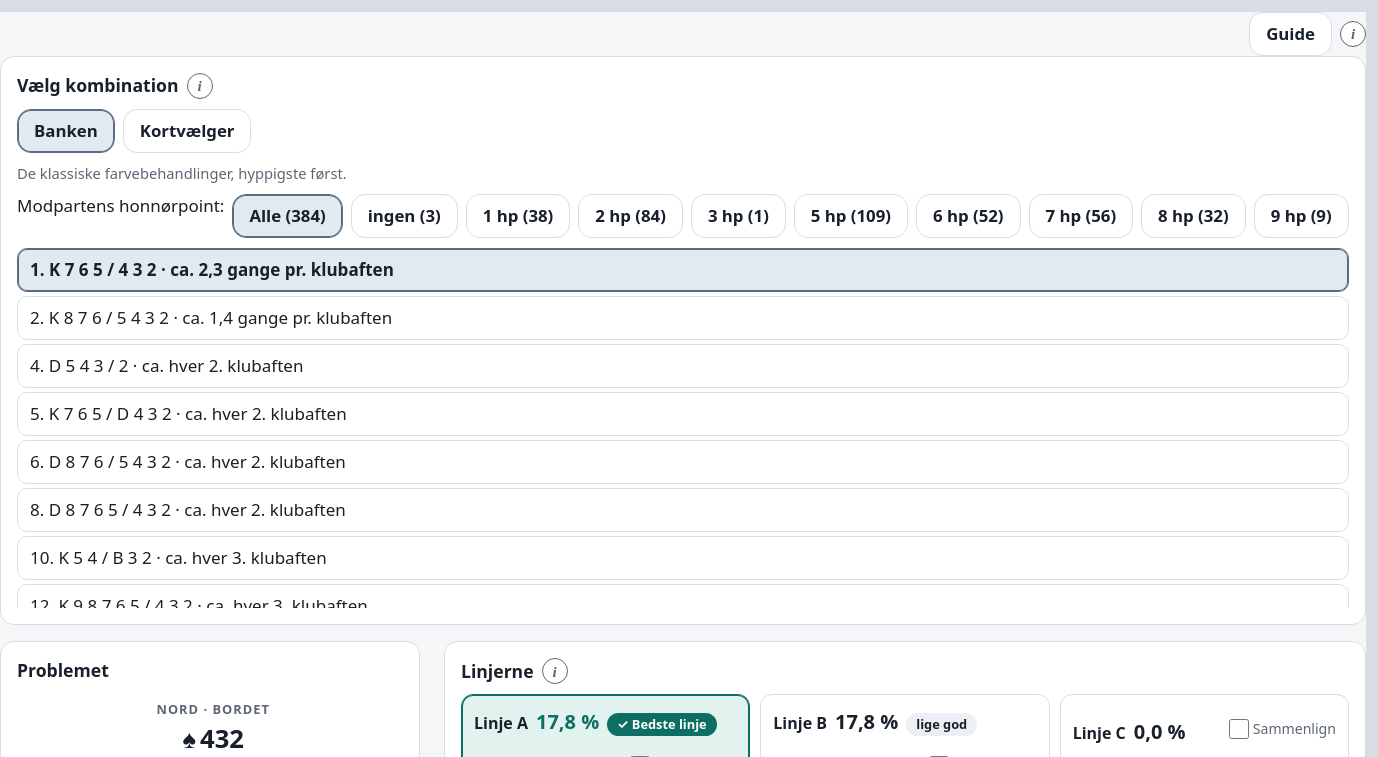
Test case: Import i Analyse › et spil giver 8 kombinationer at vælge imellem, og den valgte står i kortvælgeren
Click the button "Kortvælger" at (187, 131), box [123,109,252,153]
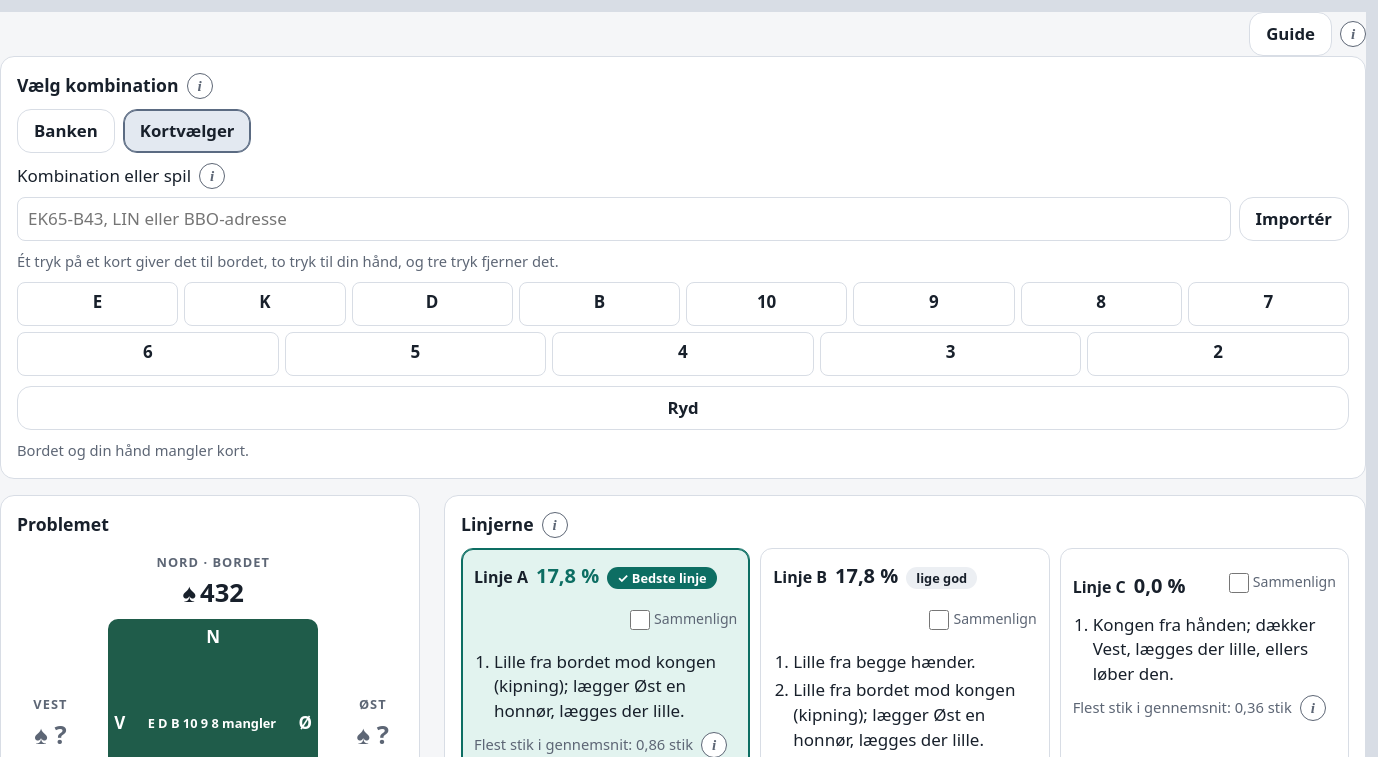
Type "md|3SQ6HKQ84D632CQ832,ST94HJ752DK84CT65,SJ52HTDAQJ975CKJ7,|" into the field labelled "Kombination eller spil" at (624, 219), box [17,197,1230,241]
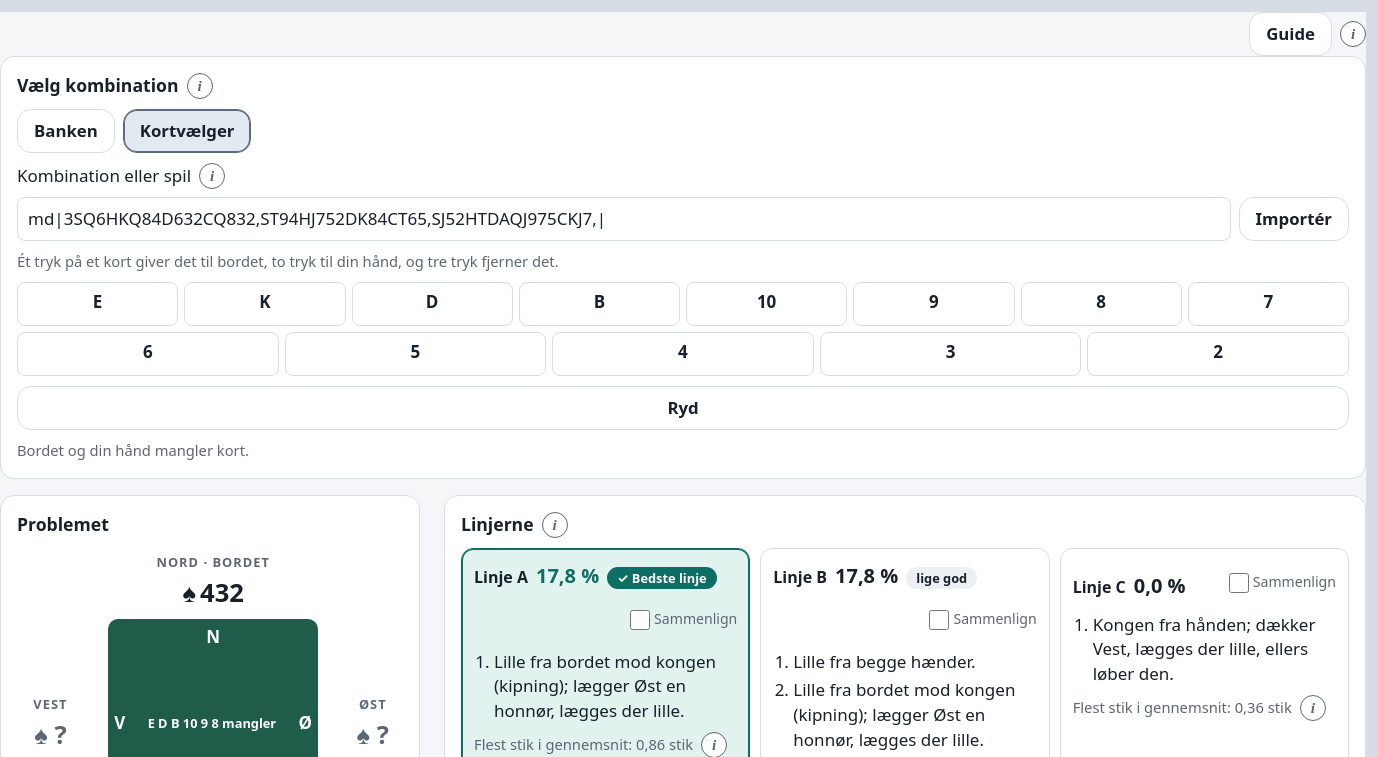
Click the button "Importér" at (1294, 219), box [1238,197,1349,241]
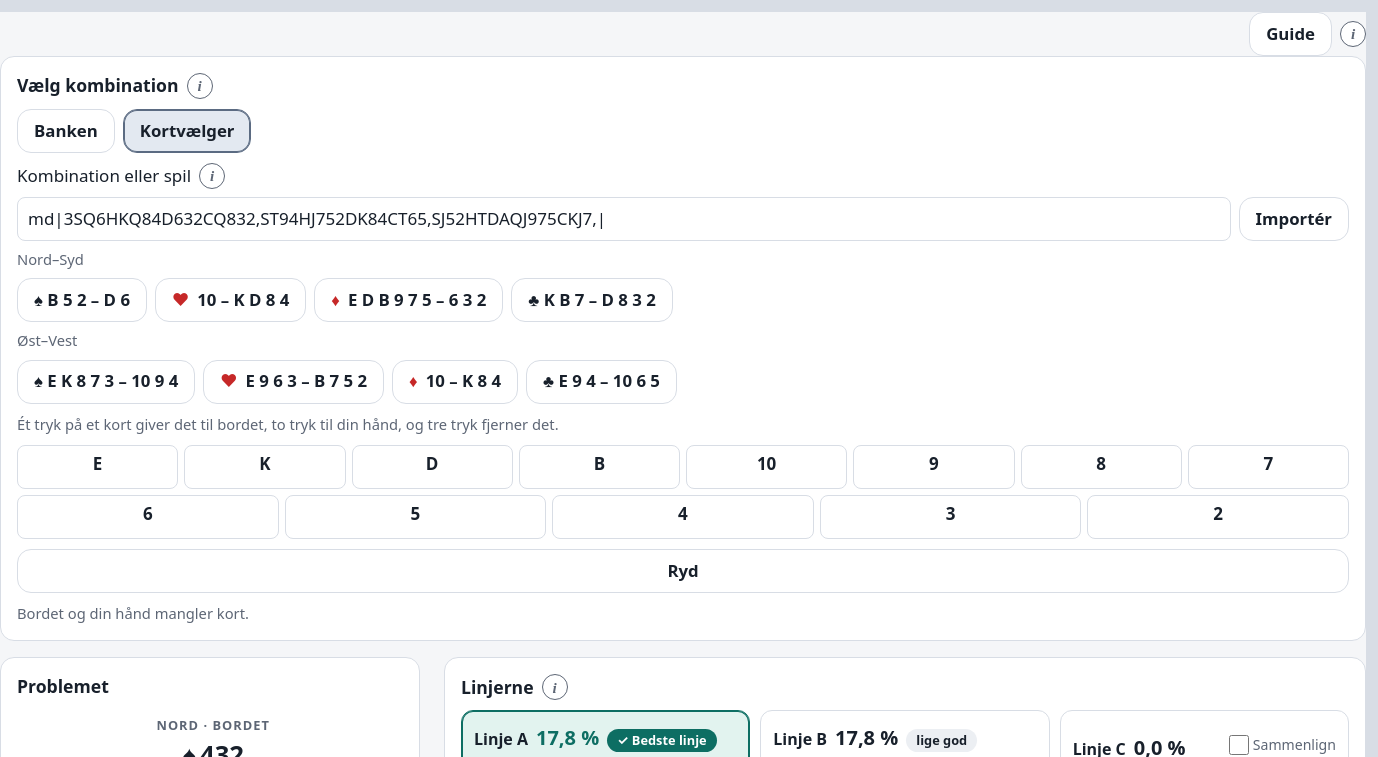
Click the button named "♦ E D B 9 7 5 – 6 3 2 (Nord–Syd)" at (409, 300), box [314,278,503,322]
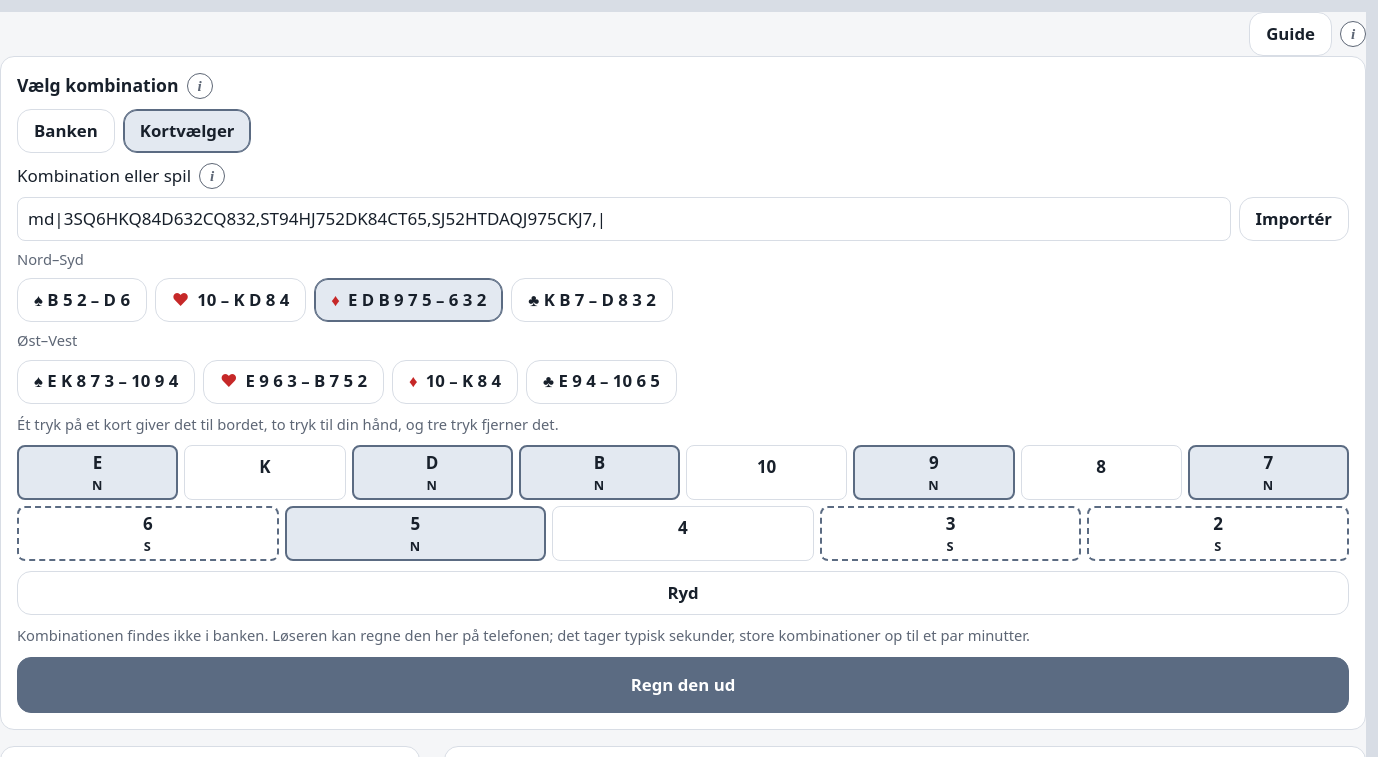
expect the button named "♠ E K 8 7 3 – 10 9 4 (Øst–Vest)" is shown: met, box [17,360,195,404]
expect the button named "E: bordet" is shown: met, box [17,445,178,500]
expect the button named "6: din hånd" is shown: met, box [17,506,279,561]
